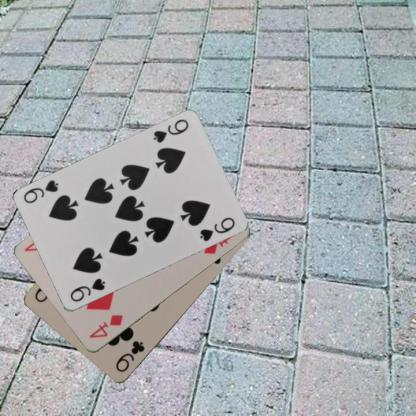4d: (87, 312, 124, 340)
9c: (113, 338, 146, 374)
9s: (67, 276, 107, 304), (150, 117, 190, 145)
